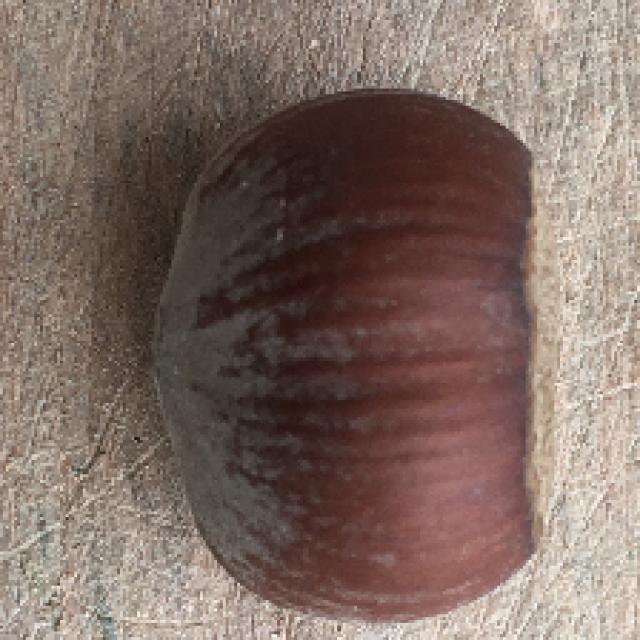damagedHazelnut: (141, 66, 604, 625)
